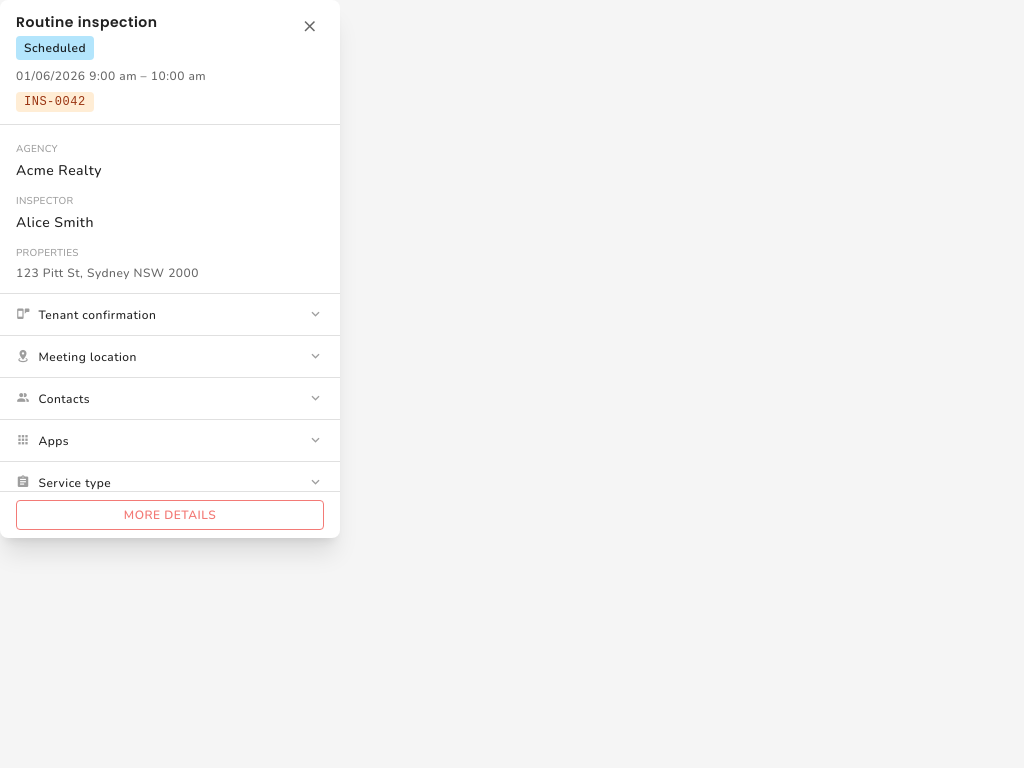
Scenario: AppointmentMapDetailPanel (content) › renders all app credential fields in the Apps section
Click the button with test id "map-detail-section-apps" at point(54, 440), box [0,420,340,461]
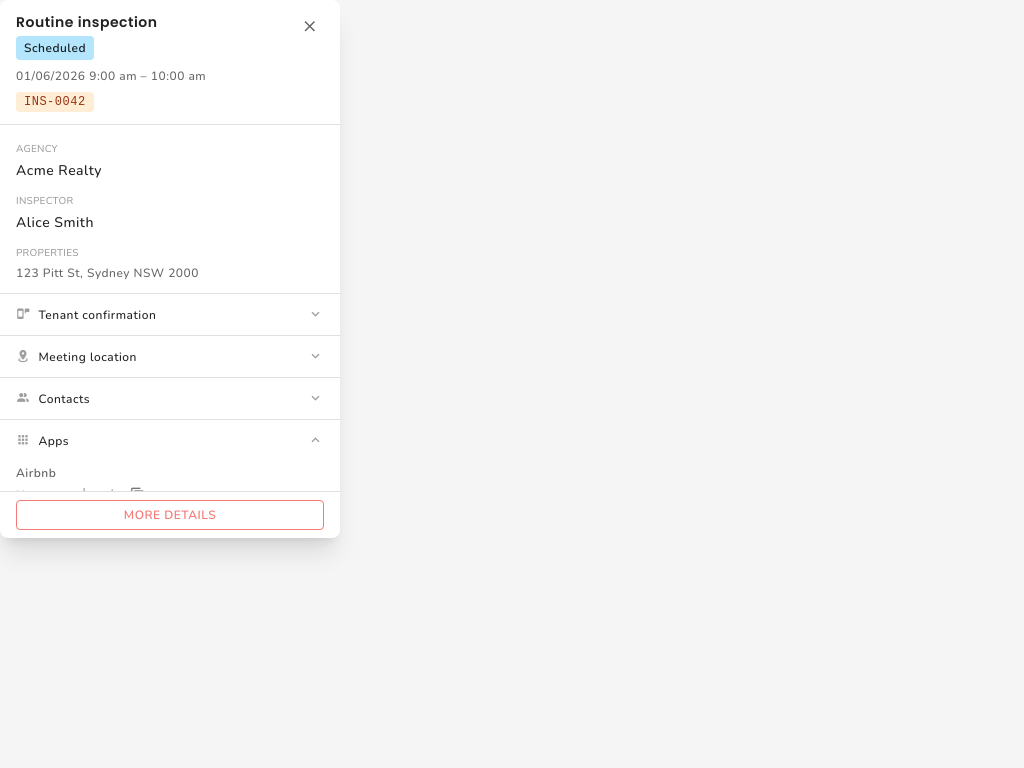
Expected: the text "Airbnb" is shown, [16,465,56,481]
